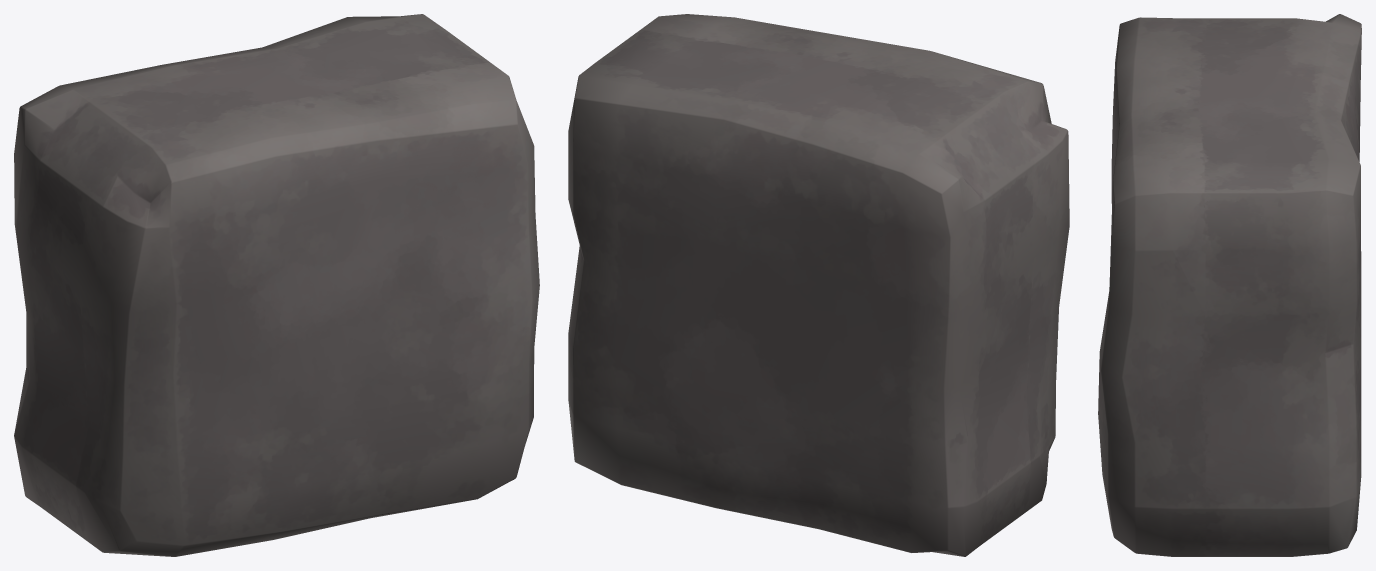
The model's file is stoneProp.fbx.
3 views of the same model, side by side, from view 1: azimuth 30°, elevation 25°; view 2: azimuth 150°, elevation 25°; view 3: azimuth 270°, elevation 25° (orthographic). The views are drawn at different scales.
Parts seen in each view (by area): view 1: stone.001; view 2: stone.001; view 3: stone.001.
Boxes of the visible parts, x1,y1,x2,y2 form: stone.001: (14, 14, 539, 556); stone.001: (568, 14, 1069, 556); stone.001: (1098, 14, 1361, 556).
Size of the model in its own units: 47.71 by 45.47 by 27.77.
